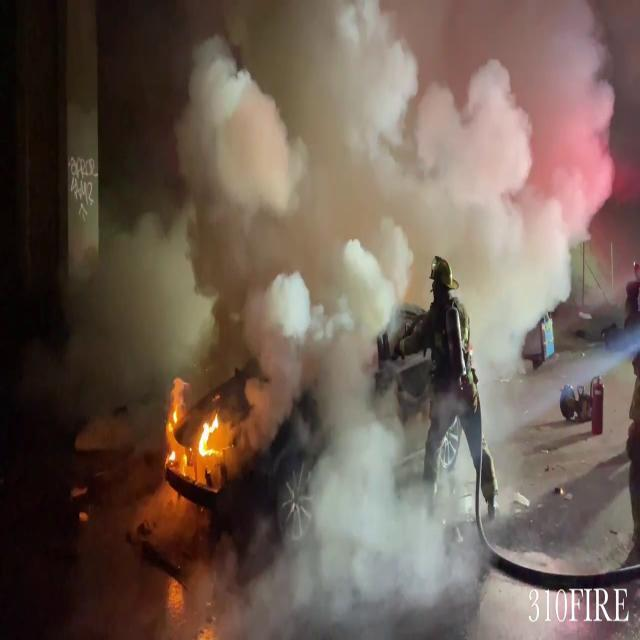Fire: (155, 373, 224, 484)
Smoke: (41, 0, 624, 378), (264, 383, 464, 625)
